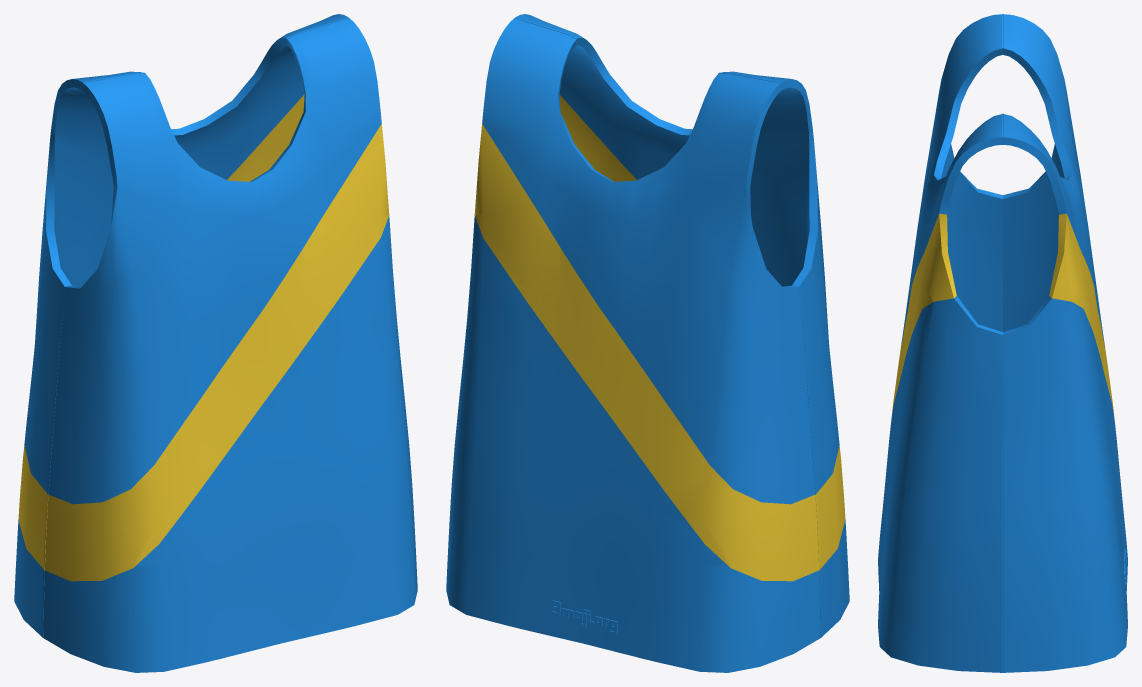
File: running_shirt.fbx
3 renders of one model, left to right at view 1: azimuth 30°, elevation 25°; view 2: azimuth 150°, elevation 25°; view 3: azimuth 270°, elevation 25°, orthographic. The views are drawn at different scales.
Parts seen in each view (by area): view 1: Circle.2531; view 2: Circle.2531; view 3: Circle.2531.
Part boxes in pixels (x1=…): Circle.2531: x1=14, y1=14, x2=417, y2=672; Circle.2531: x1=446, y1=14, x2=849, y2=672; Circle.2531: x1=878, y1=14, x2=1127, y2=672.
Bounding box in the file's own units: 141 × 212 × 92.65.
Materials: 1 (1 with a texture image).
